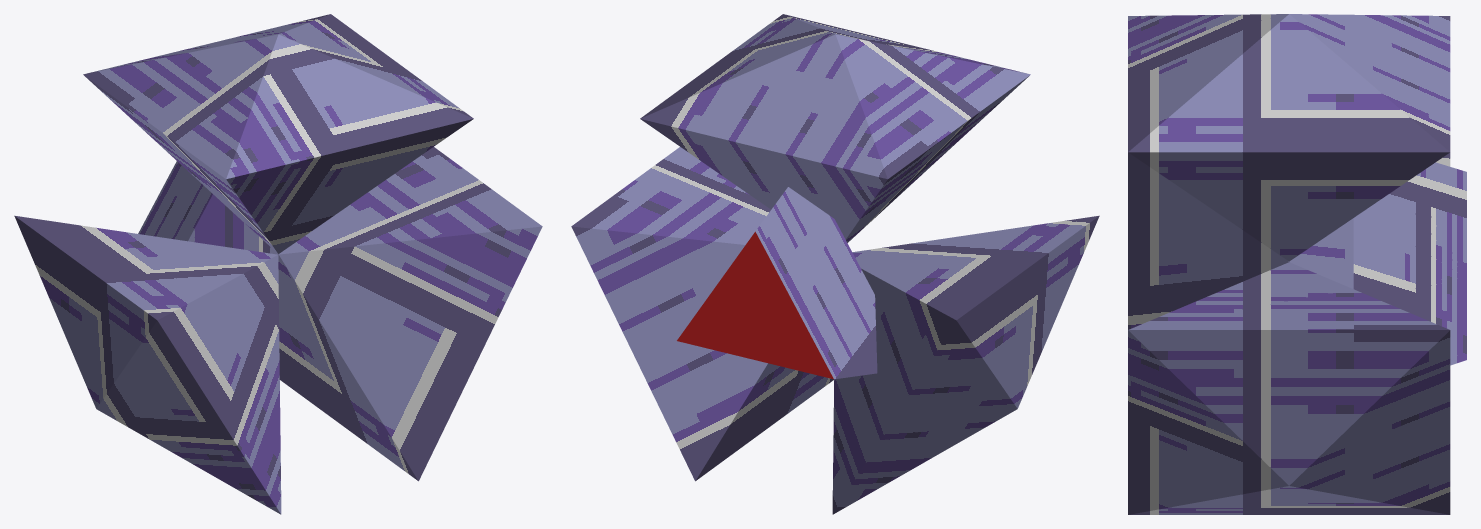
Rendered from model_051_robot_companion.glb.
3 views of the same model, side by side, from view 1: azimuth 30°, elevation 25°; view 2: azimuth 150°, elevation 25°; view 3: azimuth 270°, elevation 25° (orthographic). The views are drawn at different scales.
Parts seen in each view (by area): view 1: model_051; view 2: model_051; view 3: model_051.
Boxes of the visible parts, <box> form: model_051: <box>14,14,542,514</box>; model_051: <box>571,14,1099,514</box>; model_051: <box>1128,14,1466,514</box>.
Size of the model in its own units: 4.9 by 5 by 3.31.
2 materials, 2 textured.
